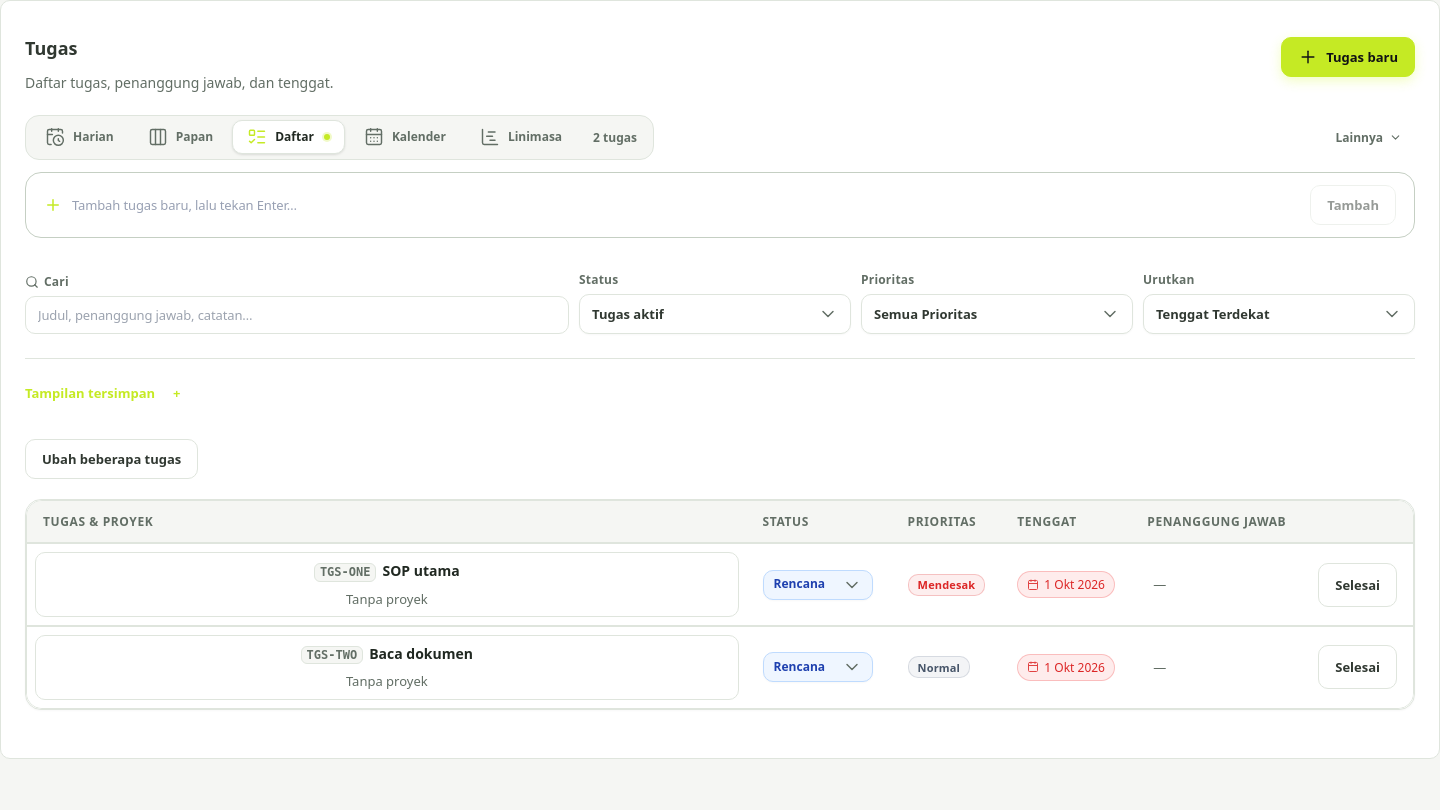
Alur kerja dasar UI › daftar tugas proyek hanya menampilkan tugas dalam lingkup dan dapat difilter prioritas
The image size is (1440, 810).
Select "Mendesak" in the dropdown labelled "Prioritas". click: (884, 312)
box: 860,293 -> 909,331
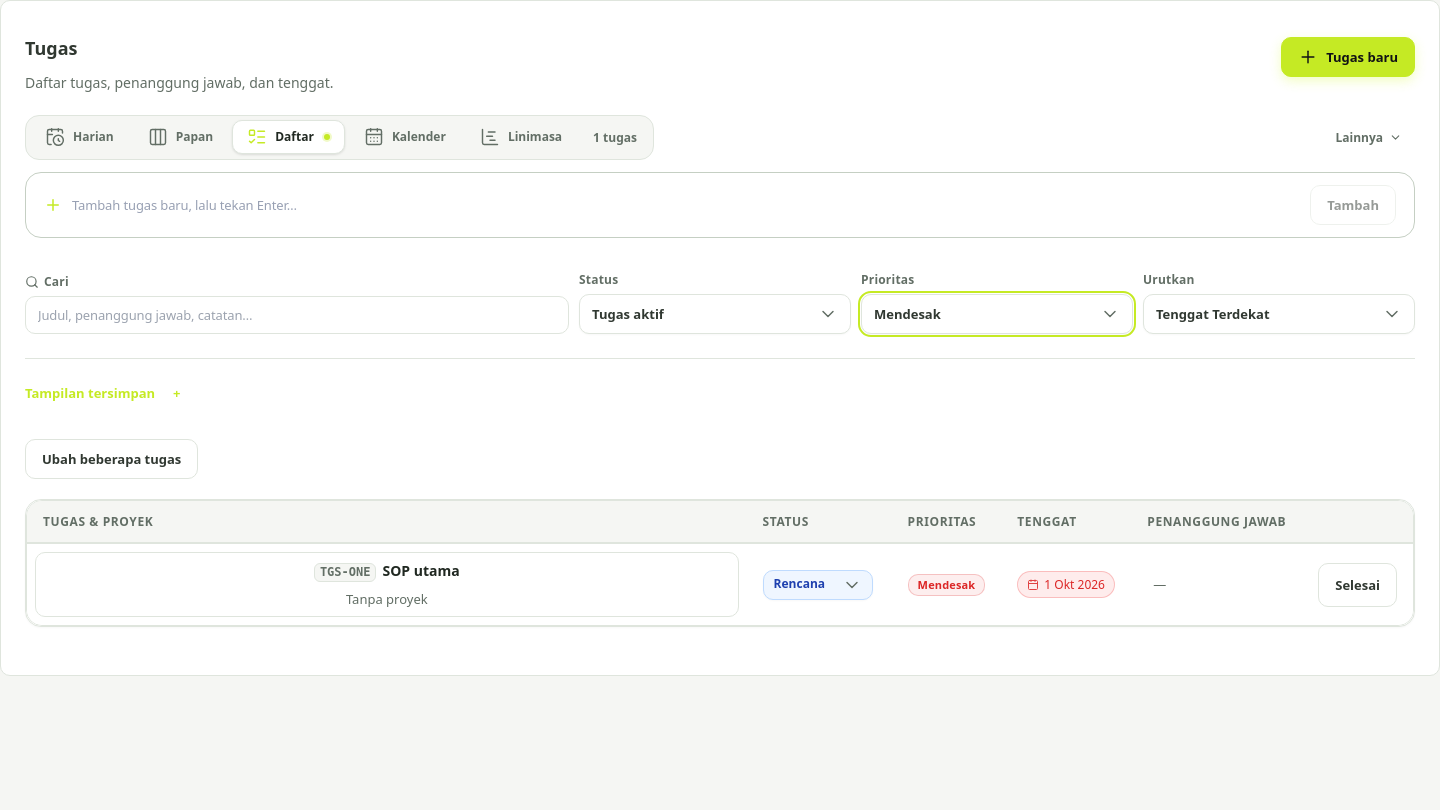
Expected: the text "SOP utama" is shown, 382,561 -> 460,581
Now the button "Baca dokumen" is gone
